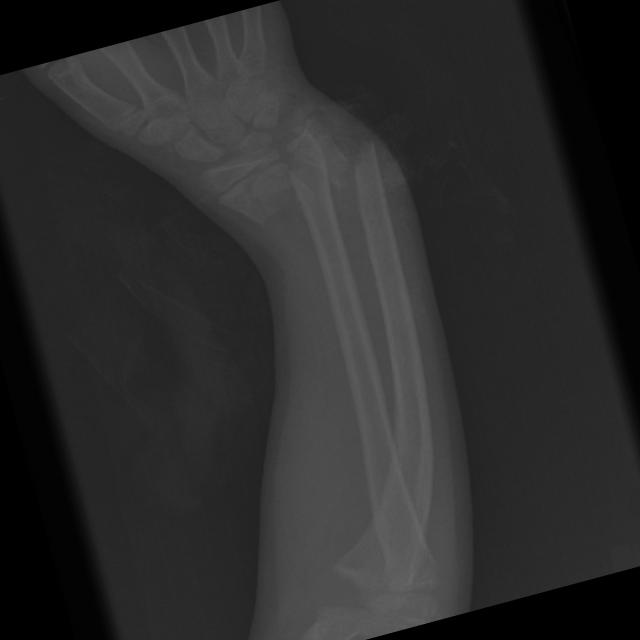forearm fracture: (329, 114, 439, 256)
